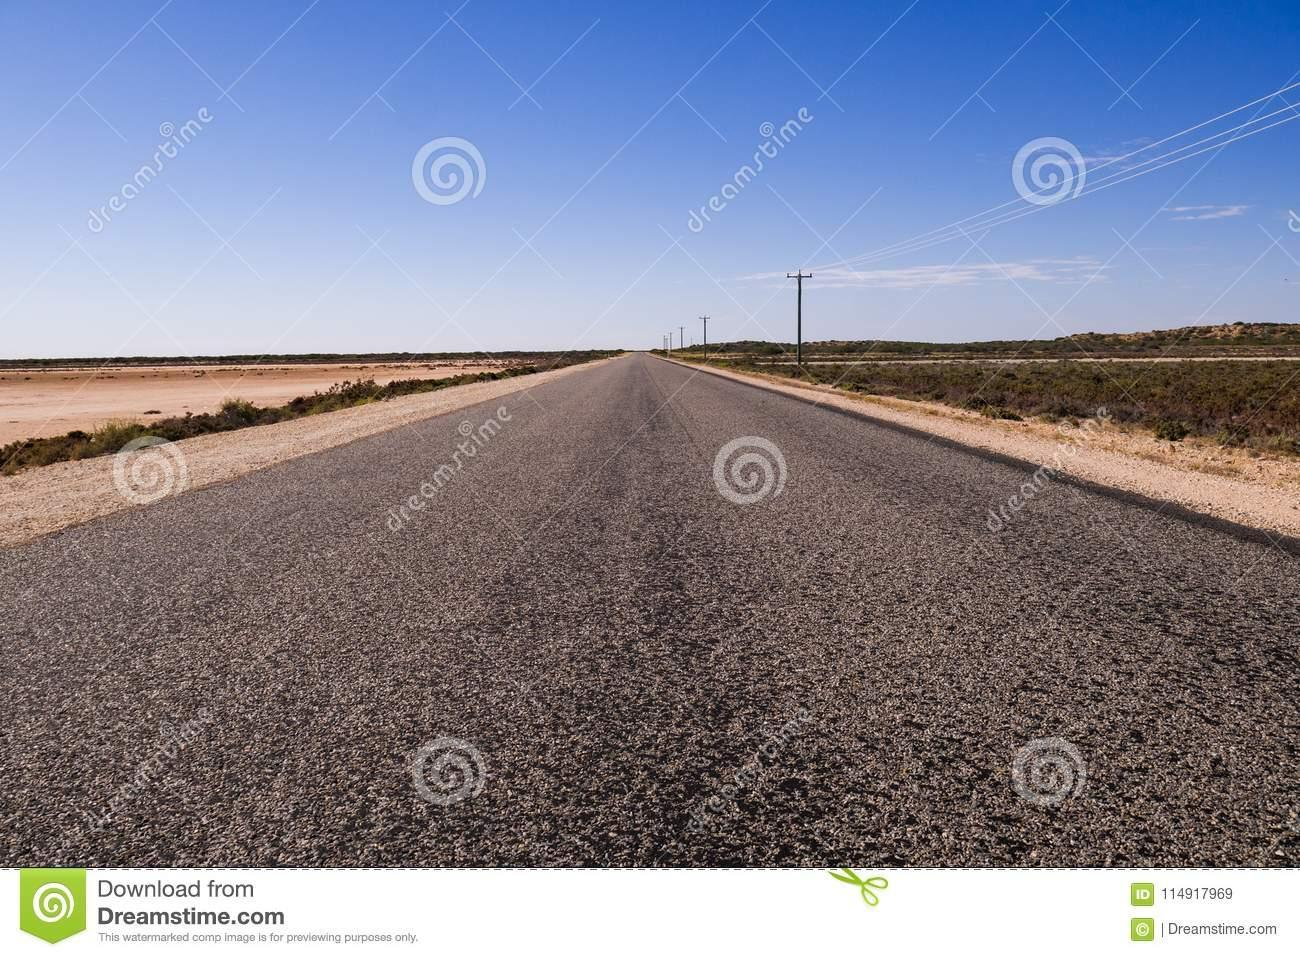language: (93, 875, 426, 953), (1124, 879, 1282, 946)
sign: (15, 873, 92, 949)
watersign: (77, 108, 229, 236), (680, 101, 820, 238), (983, 410, 1117, 531), (385, 419, 507, 535), (1007, 733, 1094, 814), (1006, 135, 1095, 210), (709, 431, 794, 508), (406, 735, 493, 809), (410, 135, 492, 211), (113, 434, 191, 509)
